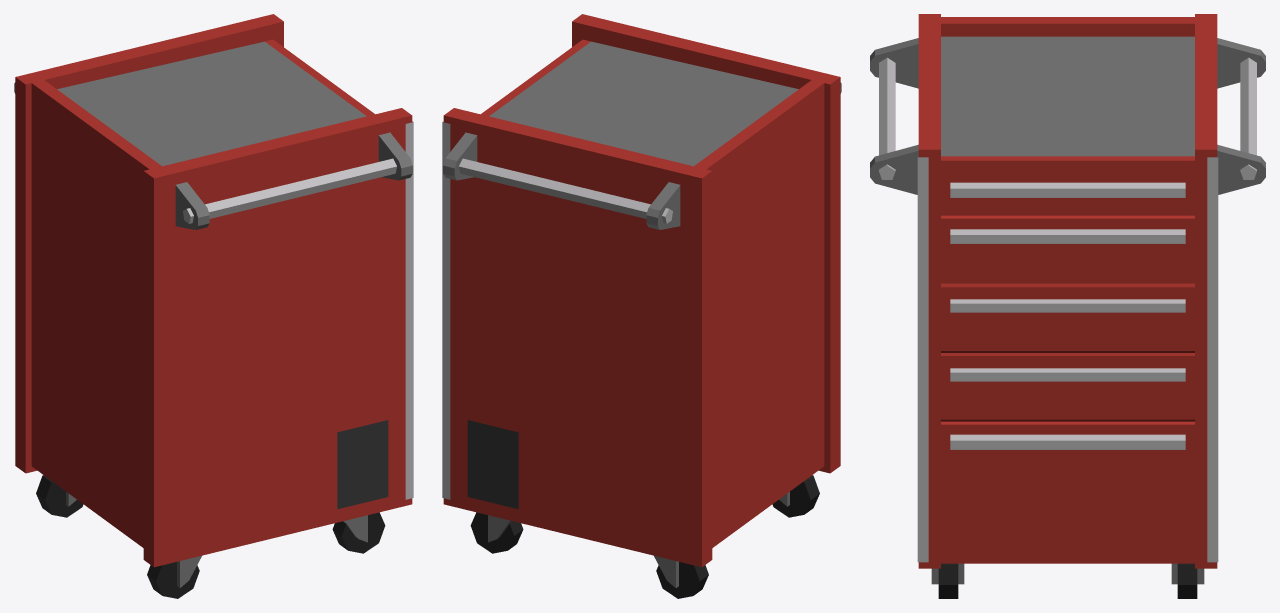
The model's file is SM_ToolBox_01.glb.
The picture shows the model from 3 angles, left to right: view 1: azimuth 30°, elevation 25°; view 2: azimuth 150°, elevation 25°; view 3: azimuth 270°, elevation 25°; orthographic projection. The views are drawn at different scales.
Visible parts, largest first — view 1: SM_ToolBox_01; view 2: SM_ToolBox_01; view 3: SM_ToolBox_01.
Part boxes in pixels (x1=…): SM_ToolBox_01: x1=14, y1=14, x2=413, y2=598; SM_ToolBox_01: x1=442, y1=14, x2=841, y2=598; SM_ToolBox_01: x1=870, y1=14, x2=1265, y2=598.
Size of the model in its own units: 0.5397 by 0.8664 by 0.6626.
1 material, 1 textured.
